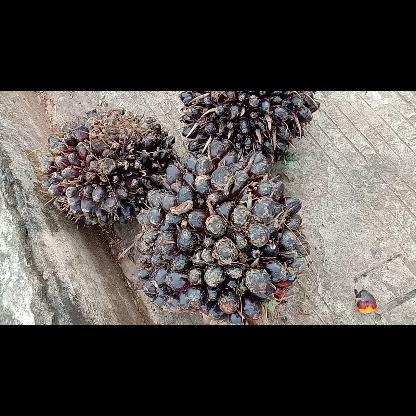TBS mentah: (135, 138, 311, 324), (38, 107, 184, 230), (175, 91, 321, 163)
